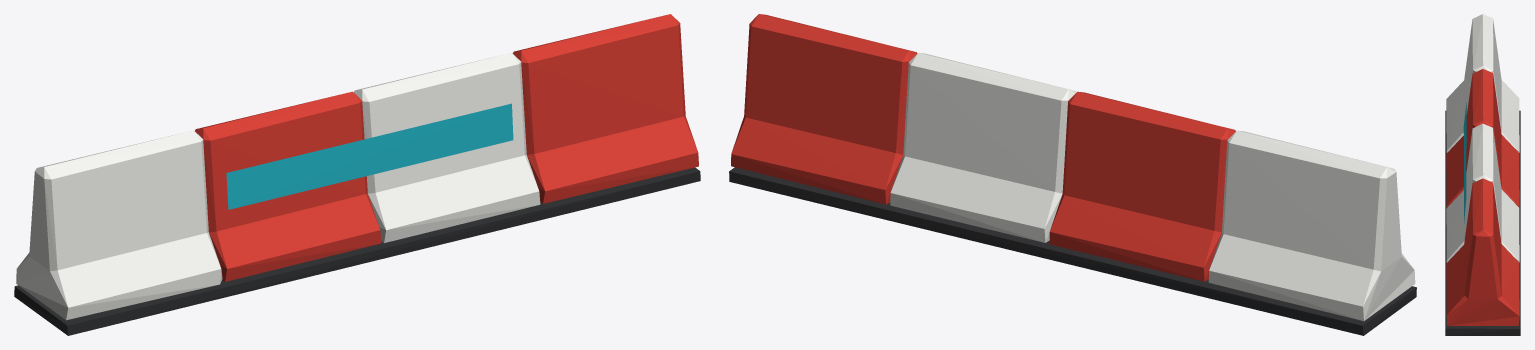
File: barrier_segment_lod1.obj
3 renders of one model, left to right at view 1: azimuth 30°, elevation 25°; view 2: azimuth 150°, elevation 25°; view 3: azimuth 270°, elevation 25°, orthographic. The views are drawn at different scales.
Parts seen in each view (by area): view 1: barrier_segment_lod1; view 2: barrier_segment_lod1; view 3: barrier_segment_lod1.
Part boxes in pixels (x1,y1,x2,y2): barrier_segment_lod1: [14, 14, 700, 335]; barrier_segment_lod1: [729, 14, 1416, 335]; barrier_segment_lod1: [1445, 14, 1520, 335].
Bounding box in the file's own units: 4 × 0.894 × 0.5833.
